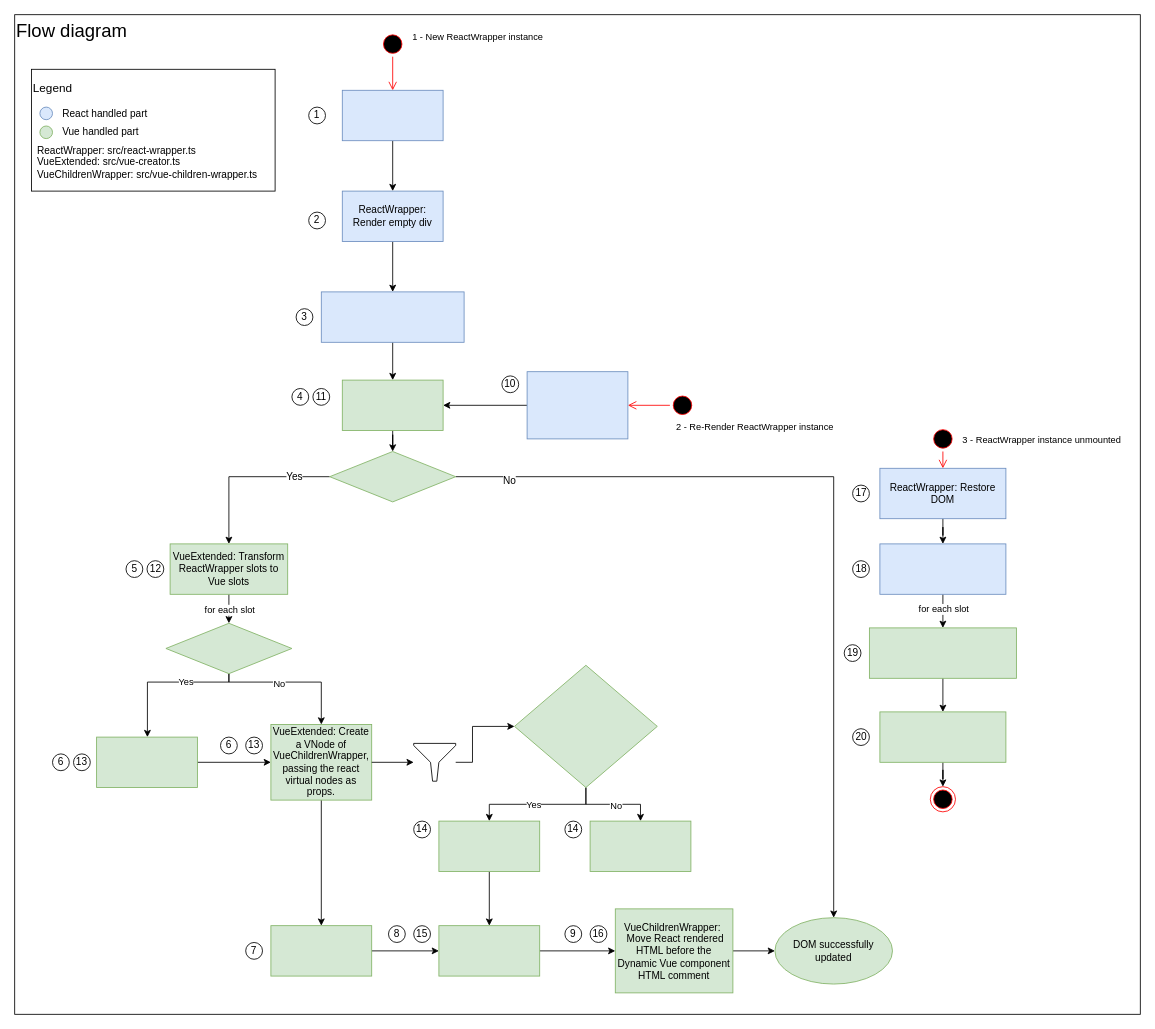
This 1155x1029 diagram has some shape labels left out. The centre of each missing label's shape, as x and y in pixels:
"Do nothing" belongs at pixel 640 846.
"ReactWrapper Ref callback: Mount Vue in the created div" belongs at pixel 392 316.
"ReactWrapper: create Vue instance with the initial React props" belongs at pixel 392 115.
"ReactWrapper: Destroy Vue instance" belongs at pixel 942 568.
"ReactWrapper: Sync props with Vue instance" belongs at pixel 577 405.
"Vue diff algorithm" belongs at pixel 434 762.
"VueChildrenWrapper: Have the React virtual nodes changed?" belongs at pixel 585 726.
"VueChildrenWrapper: Move the old React virtual nodes to the non-attached div" belongs at pixel 489 846.
"VueChildrenWrapper: Render react slot in a non-attached div" belongs at pixel 489 950.
"VueChildrenWrapper: Restore react rendered nodes to the non-attached div" belongs at pixel 942 652.
"VueChildrenWrapper: Unmount React component" belongs at pixel 942 736.
"VueExtended: Has slots?" belongs at pixel 392 476.
"VueExtended: Is it an scoped slot?" belongs at pixel 228 648.
"VueExtended: Mount VueChildrenWrapper" belongs at pixel 321 950.
"VueExtended: Start Render" belongs at pixel 392 404.
"VueExtended: Wrap React scoped slot into a Vue scoped slot" belongs at pixel 146 762.
